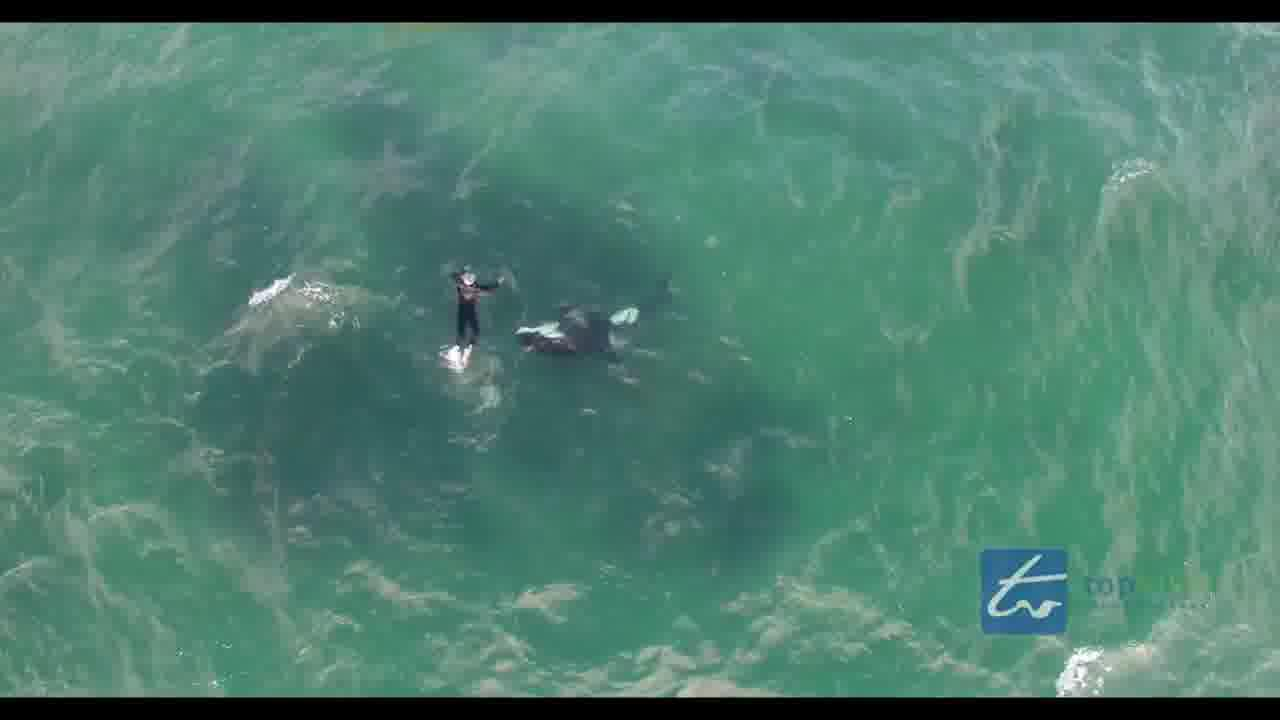swimmer: (431, 254, 510, 370)
